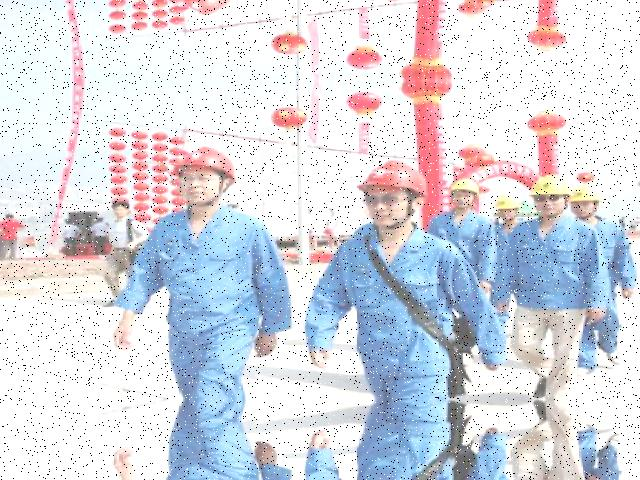Helmet: (360, 155, 432, 204), (176, 140, 241, 191), (528, 170, 578, 204), (567, 180, 609, 206), (446, 175, 486, 202), (494, 191, 528, 216)
